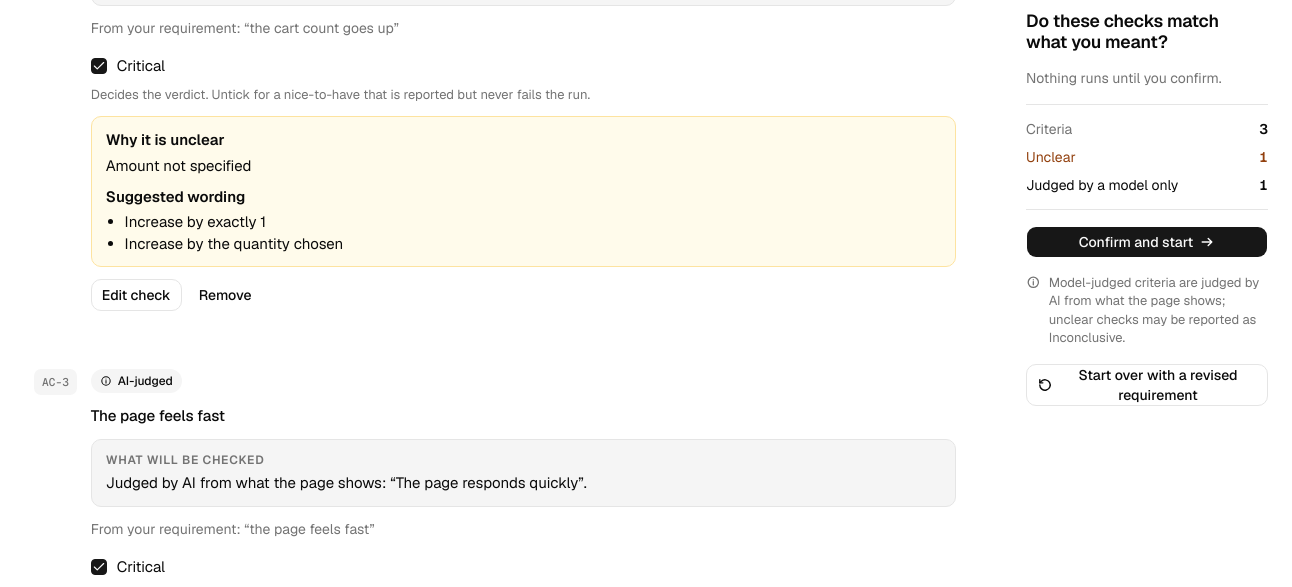
CriteriaReview › won't confirm while a check editor is open, and says which one
This screenshot has width=1292, height=587.
(page scrolled)
Click the button with aria-label "Edit check AC-2" at (136, 295), box top-left (91, 279), bottom-right (182, 311)
(page scrolled)
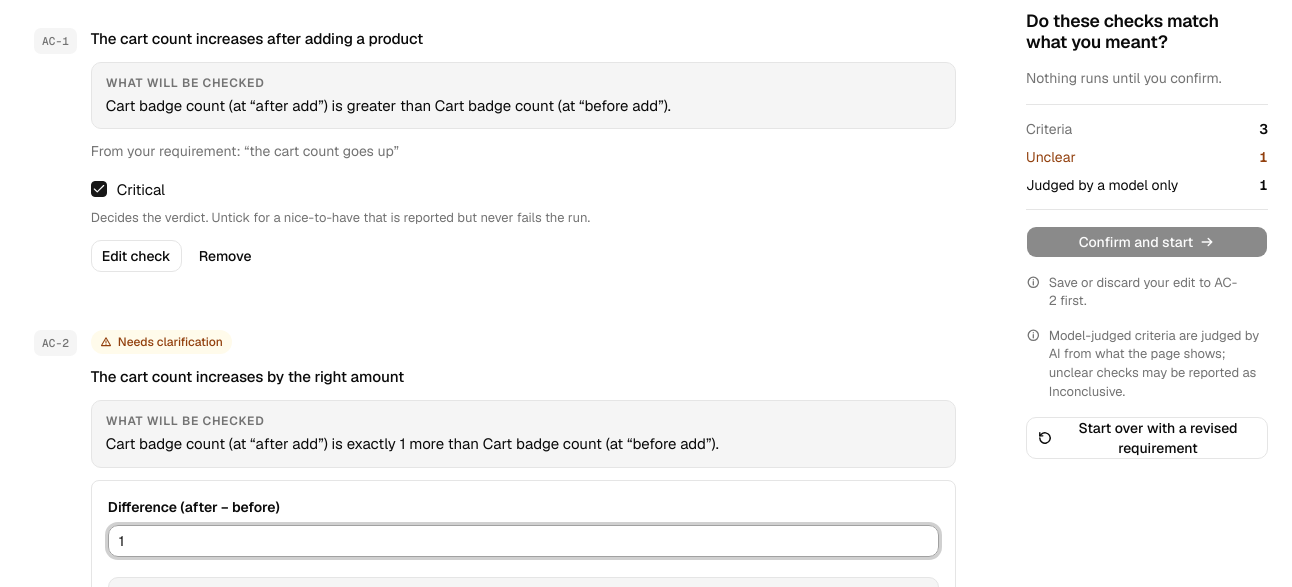
Now the button "Confirm and start" is disabled, box top-left (1026, 226), bottom-right (1268, 258)
Now the text "Save or discard your edit to AC-2 first." is shown, box top-left (1026, 274), bottom-right (1268, 311)
Click the button with aria-label "Edit check AC-1" at (136, 256), box top-left (91, 240), bottom-right (182, 272)
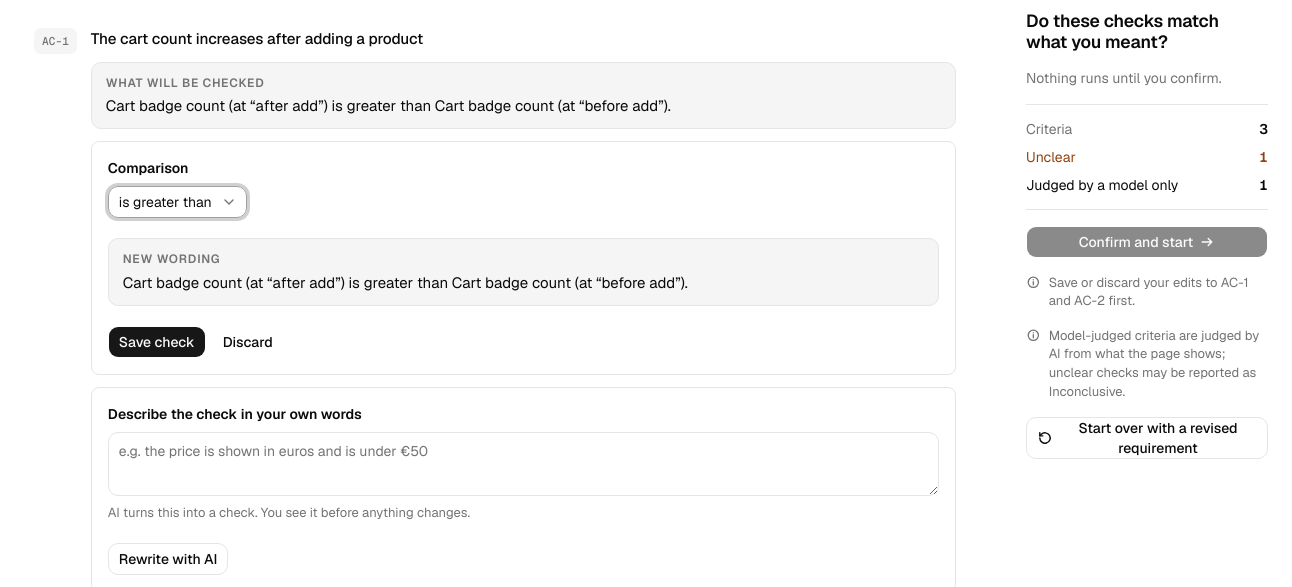
Now the text "Save or discard your edits to AC-1 and AC-2 first." is shown, box top-left (1026, 274), bottom-right (1268, 311)
Click the button "Discard" at (248, 342), box top-left (212, 326), bottom-right (284, 358)
(page scrolled)
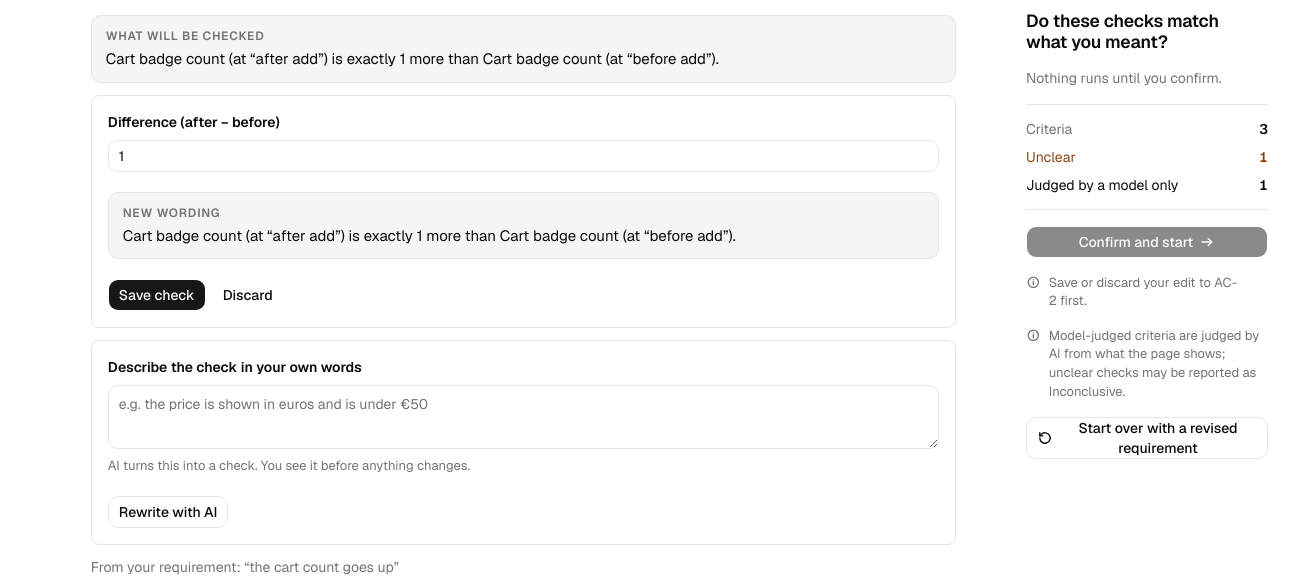
Click the button "Discard" at (248, 295), box top-left (212, 279), bottom-right (284, 311)
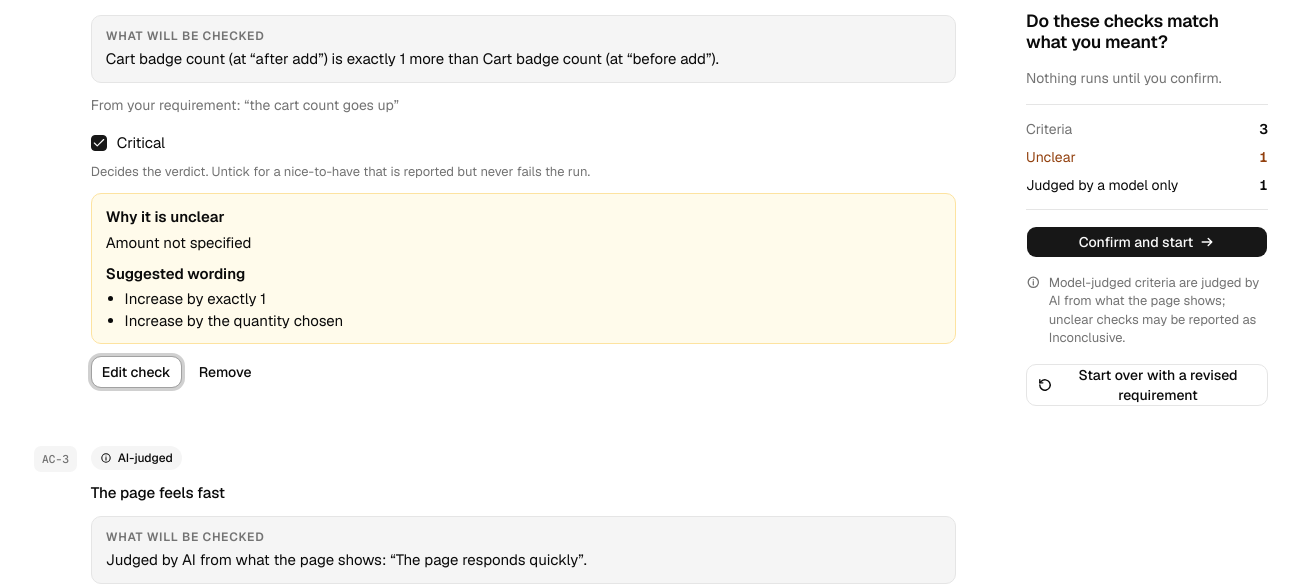
Now the button "Confirm and start" is enabled, box top-left (1026, 226), bottom-right (1268, 258)
Now the text "Save or discard" is gone
